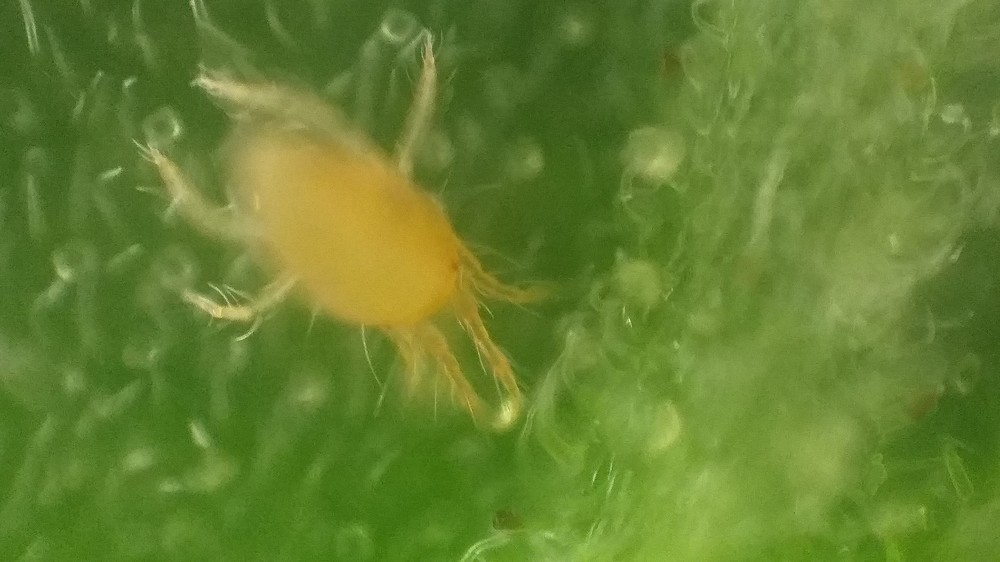Aracnido Rojo: (121, 27, 581, 443)
